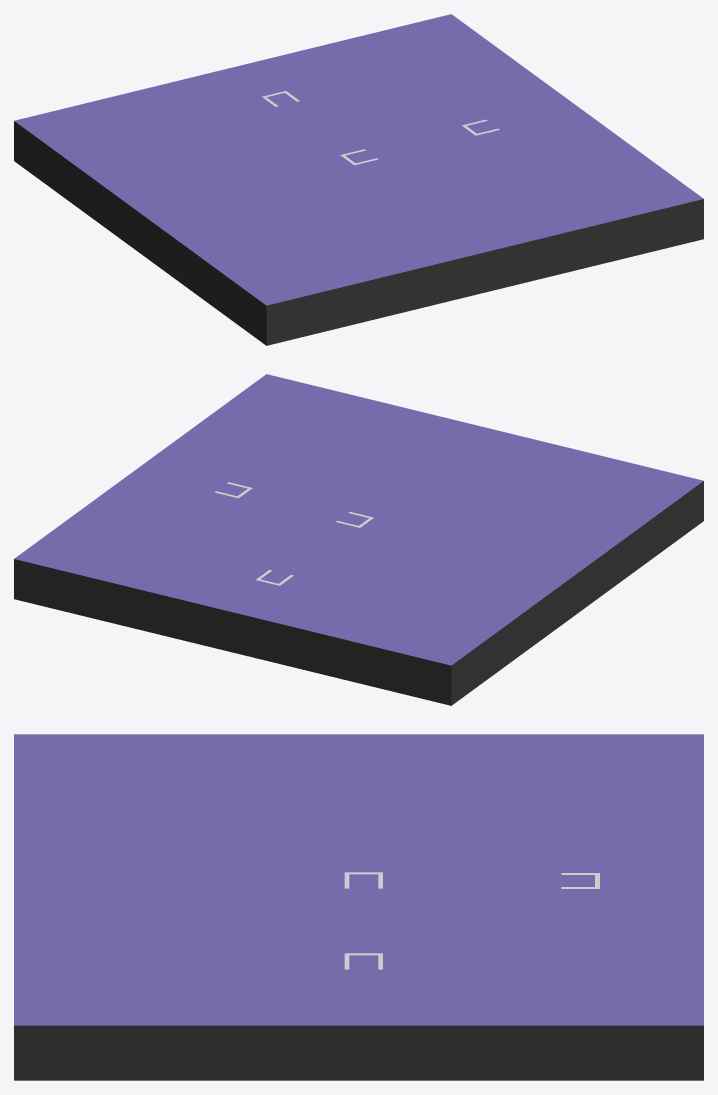
The model's file is road_7.fbx.
3 renders of one model, top to bottom at view 1: azimuth 30°, elevation 25°; view 2: azimuth 150°, elevation 25°; view 3: azimuth 270°, elevation 25°, orthographic. The views are drawn at different scales.
Visible parts, largest first — view 1: Road.010; view 2: Road.010; view 3: Road.010.
Part boxes in pixels (x1=…): Road.010: x1=14, y1=14, x2=703, y2=345; Road.010: x1=14, y1=374, x2=703, y2=705; Road.010: x1=14, y1=734, x2=703, y2=1080.
Size of the model in its own units: 800 by 71.68 by 800.
